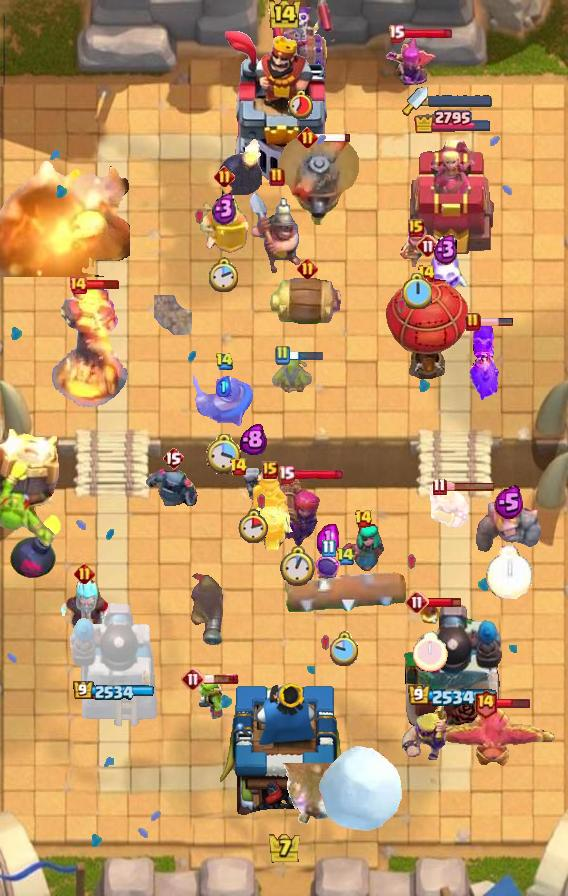archer: (396, 226, 436, 270)
archer-evolution: (384, 37, 438, 99)
bar: (293, 468, 344, 481), (402, 27, 453, 40), (444, 481, 496, 492), (288, 349, 325, 362), (427, 596, 462, 609), (203, 673, 239, 685), (496, 697, 531, 709), (315, 132, 352, 143), (86, 279, 120, 290), (478, 317, 514, 327)
bar-level: (473, 688, 498, 719), (181, 667, 205, 691), (405, 590, 429, 614), (416, 234, 440, 258), (162, 446, 184, 470), (74, 563, 95, 584), (297, 258, 318, 279), (214, 166, 235, 187), (297, 127, 318, 148), (68, 275, 88, 295), (354, 509, 373, 529), (229, 457, 248, 477), (417, 264, 436, 284), (336, 547, 355, 566), (215, 352, 234, 371), (278, 465, 295, 484), (388, 24, 405, 43), (274, 345, 290, 365), (465, 312, 481, 332), (269, 167, 285, 187), (262, 461, 278, 479), (408, 219, 424, 237), (321, 539, 336, 558), (432, 477, 447, 496)
barbarian: (425, 483, 471, 529)
barbarian-barrel: (269, 278, 345, 328)
barbarian-evolution: (399, 698, 451, 760)
bomb: (9, 512, 63, 580), (217, 136, 263, 195)
bomber-evolution: (467, 321, 501, 403)
cannoneer-tower: (403, 601, 503, 731), (69, 599, 159, 731)
clock: (486, 545, 532, 599), (206, 434, 242, 476), (280, 546, 315, 587), (413, 632, 448, 672), (209, 257, 240, 294), (401, 273, 432, 309), (330, 631, 360, 666), (238, 509, 268, 543), (287, 89, 315, 119)
dagger-duchess-tower: (409, 138, 497, 256)
dagger-duchess-tower-bar: (428, 95, 492, 107)
dirt: (154, 295, 192, 335)
elixir: (494, 485, 524, 520), (240, 423, 267, 455), (433, 233, 459, 265), (212, 192, 237, 225), (317, 524, 339, 554), (216, 376, 232, 397)
fire-spirit: (420, 602, 440, 624)
firecracker-evolution: (273, 473, 321, 549)
goblin: (270, 355, 314, 397), (196, 675, 228, 723)
golemite: (476, 499, 542, 559)
ice-spirit-evolution: (424, 246, 468, 300)
ice-wizard: (53, 573, 115, 645)
king-tower: (220, 678, 349, 826), (223, 31, 345, 181)
knight: (193, 375, 255, 427)
miner: (247, 190, 307, 278)
mini-pekka: (145, 465, 201, 511)
musketeer: (187, 569, 225, 647)
ram-rider: (247, 468, 293, 552)
rascal-girl: (340, 524, 386, 574)
royal-recruit: (198, 185, 250, 255)
skeleton: (239, 468, 267, 502)
skeleton-evolution: (313, 554, 344, 594)
the-log: (282, 568, 408, 618)
tower-bar: (408, 685, 498, 708), (413, 108, 493, 133), (73, 681, 155, 702)
